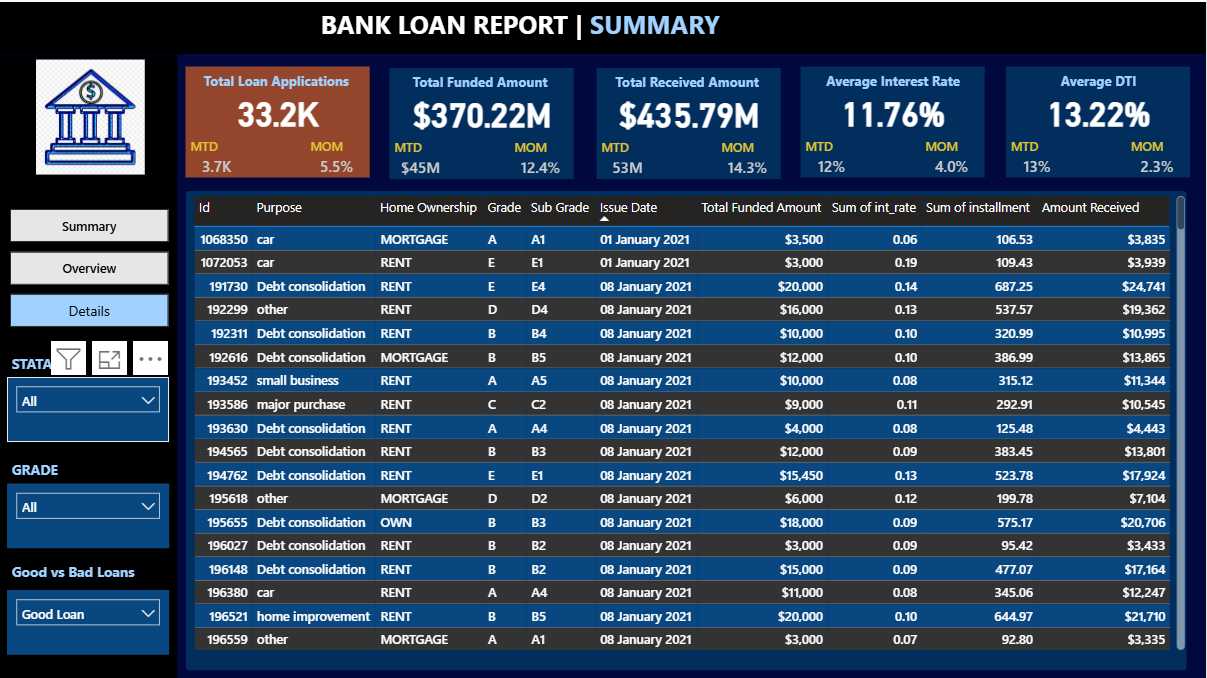

What the dashboard file says about the page in this screenshot:
{"tool":"powerbi","page":{"name":"Details","canvas":[1280,720],"ordinal":2},"visuals":[{"type":"shape","box":[0,55.7,190,664.9],"z":0},{"type":"shape","box":[0,0,1280.4,55],"z":1000},{"type":"textbox","box":[337.2,0,470.8,55.7],"z":2000},{"type":"shape","box":[851.4,68.3,195.6,117.7],"z":3000,"group":"g4"},{"type":"shape","box":[1068.3,68.3,195.6,117.7],"z":3000,"group":"g6"},{"type":"group","id":"g1","title":"Group 1","box":[198.2,68.6,195.6,117.7],"z":3000},{"type":"shape","box":[198.2,68.6,195.6,117.7],"z":3000,"group":"g5"},{"type":"shape","box":[415.8,70,195.6,117.7],"z":3000,"group":"g2"},{"type":"shape","box":[634.4,70,195.6,117.7],"z":3000,"group":"g3"},{"type":"card","fields":{"Values":["Bank_Loan_Data.Avg Interest Rate"]},"box":[851.4,87.4,195.6,55.7],"z":4000,"group":"g4"},{"type":"card","fields":{"Values":["Bank_Loan_Data.Avg DTI"]},"box":[1068.3,87.4,195.6,55.7],"z":4000,"group":"g6"},{"type":"card","fields":{"Values":["Bank_Loan_Data.Total Loan Applications"]},"box":[198.2,87.7,195.6,55.7],"z":4000,"group":"g5"},{"type":"card","fields":{"Values":["Bank_Loan_Data.Total Funded Amount"]},"box":[415.8,89.1,195.6,55.7],"z":4000,"group":"g2"},{"type":"card","fields":{"Values":["Bank_Loan_Data.Total Amount Received"]},"box":[634.4,89.1,195.6,55.7],"z":4000,"group":"g3"},{"type":"shape","box":[198.3,200,1061.7,508.3],"z":4000},{"type":"textbox","box":[851.4,68.3,192.5,38.2],"z":5000,"group":"g4"},{"type":"textbox","box":[1068.3,68.3,192.5,38.2],"z":5000,"group":"g6"},{"type":"textbox","box":[198.2,68.6,192.5,38.2],"z":5000,"group":"g5"},{"type":"group","id":"g2","title":"Group 2","box":[415.8,70,196.7,118.3],"z":5000},{"type":"textbox","box":[415.8,70,192.5,38.2],"z":5000,"group":"g2"},{"type":"textbox","box":[634.4,70,192.5,38.2],"z":5000,"group":"g3"},{"type":"group","id":"g3","title":"Group 2","box":[634.4,70,195,116.7],"z":6000},{"type":"card","title":"MTD","fields":{"Values":["Bank_Loan_Data.MTD Avg_Interest Rate"]},"box":[851.4,143.1,65.2,42.9],"z":6000,"group":"g4"},{"type":"card","title":"MTD","fields":{"Values":["Bank_Loan_Data.MTD avg dti"]},"box":[1068.3,143.1,65.2,42.9],"z":6000,"group":"g6"},{"type":"card","title":"MTD","fields":{"Values":["Bank_Loan_Data.MTD Loan Applications"]},"box":[198.2,143.4,65.2,42.9],"z":6000,"group":"g5"},{"type":"card","title":"MTD","fields":{"Values":["Bank_Loan_Data.MTD FUNDED AMOUNT"]},"box":[415.8,144.8,65.2,42.9],"z":6000,"group":"g2"},{"type":"card","title":"MTD","fields":{"Values":["Bank_Loan_Data.MTD RECIEVED TOTAL AMOUNT"]},"box":[634.4,144.8,65.2,42.9],"z":6000,"group":"g3"},{"type":"group","id":"g4","title":"Group 2","box":[851.4,68.3,195,116.7],"z":7000},{"type":"card","title":"MOM","fields":{"Values":["Bank_Loan_Data.MOM Avg Interest Rate"]},"box":[978.6,143.1,65.2,42.9],"z":7000,"group":"g4"},{"type":"card","title":"MOM","fields":{"Values":["Bank_Loan_Data.MOM Avg dti"]},"box":[1195.5,143.1,65.2,42.9],"z":7000,"group":"g6"},{"type":"card","title":"MOM","fields":{"Values":["Bank_Loan_Data.MOM LOAN APPLICATIONS"]},"box":[325.4,143.4,65.2,42.9],"z":7000,"group":"g5"},{"type":"card","title":"MOM","fields":{"Values":["Bank_Loan_Data.MOM TOTAL  FUNDED AMOUNT"]},"box":[543,144.8,65.2,42.9],"z":7000,"group":"g2"},{"type":"card","title":"MOM","fields":{"Values":["Bank_Loan_Data.MOM TOTAL RECIVED AMOUNT"]},"box":[761.6,144.8,65.2,42.9],"z":7000,"group":"g3"},{"type":"group","id":"g5","title":"Group 2","box":[198.2,68.6,195.6,117.7],"z":7002,"group":"g1"},{"type":"group","id":"g6","title":"Group 2","box":[1068.3,68.3,195,116.7],"z":8000},{"type":"textbox","box":[9.5,367.4,111.3,30.2],"z":9000},{"type":"slicer","fields":{"Values":["Bank_Loan_Data.grade"]},"box":[9.5,510.6,171.8,68.4],"z":10000},{"type":"textbox","box":[9.5,480.4,111.3,30.2],"z":11000},{"type":"slicer","fields":{"Values":["Bank_Loan_Data.Good vs Bad Loans"]},"box":[9.5,623.5,171.8,68.4],"z":12000},{"type":"textbox","box":[10,588.3,171.7,35],"z":13000},{"type":"slicer","fields":{"Values":["Bank_Loan_Data.address_state"]},"box":[9.5,397.7,171.8,68.4],"z":16000},{"type":"tableEx","fields":{"Values":["Bank_Loan_Data.id","Bank_Loan_Data.purpose","Bank_Loan_Data.home_ownership","Bank_Loan_Data.grade","Bank_Loan_Data.sub_grade","Bank_Loan_Data.issue_date","Bank_Loan_Data.Total Funded Amount","Sum(Bank_Loan_Data.int_rate)","Sum(Bank_Loan_Data.installment)","Bank_Loan_Data.Total Amount Received"]},"box":[201.7,200,1061.7,491.7],"z":17000},{"type":"pageNavigator","box":[12.7,219.5,168.6,127.2],"z":17001},{"type":"image","box":[14.3,55.7,167,132],"z":17002}]}

Visuals, with their boxes in screenshot pixels (x1, y1, x2, y2), scaled from the page's 1280x720 canvas onto the 1207x678 screenshot:
shape: x1=0 y1=52 x2=179 y2=677
shape: x1=0 y1=0 x2=1206 y2=52
textbox: x1=318 y1=0 x2=762 y2=52
shape: x1=803 y1=64 x2=987 y2=175
shape: x1=1007 y1=64 x2=1192 y2=175
"Group 1" group: x1=187 y1=65 x2=371 y2=175
shape: x1=187 y1=65 x2=371 y2=175
shape: x1=392 y1=66 x2=577 y2=177
shape: x1=598 y1=66 x2=783 y2=177
card - Bank_Loan_Data.Avg Interest Rate: x1=803 y1=82 x2=987 y2=135
card - Bank_Loan_Data.Avg DTI: x1=1007 y1=82 x2=1192 y2=135
card - Bank_Loan_Data.Total Loan Applications: x1=187 y1=83 x2=371 y2=135
card - Bank_Loan_Data.Total Funded Amount: x1=392 y1=84 x2=577 y2=136
card - Bank_Loan_Data.Total Amount Received: x1=598 y1=84 x2=783 y2=136
shape: x1=187 y1=188 x2=1188 y2=667
textbox: x1=803 y1=64 x2=984 y2=100
textbox: x1=1007 y1=64 x2=1189 y2=100
textbox: x1=187 y1=65 x2=368 y2=101
"Group 2" group: x1=392 y1=66 x2=578 y2=177
textbox: x1=392 y1=66 x2=574 y2=102
textbox: x1=598 y1=66 x2=780 y2=102
"Group 2" group: x1=598 y1=66 x2=782 y2=176
"MTD" card: x1=803 y1=135 x2=864 y2=175
"MTD" card: x1=1007 y1=135 x2=1069 y2=175
"MTD" card: x1=187 y1=135 x2=248 y2=175
"MTD" card: x1=392 y1=136 x2=454 y2=177
"MTD" card: x1=598 y1=136 x2=660 y2=177
"Group 2" group: x1=803 y1=64 x2=987 y2=174
"MOM" card: x1=923 y1=135 x2=984 y2=175
"MOM" card: x1=1127 y1=135 x2=1189 y2=175
"MOM" card: x1=307 y1=135 x2=368 y2=175
"MOM" card: x1=512 y1=136 x2=574 y2=177
"MOM" card: x1=718 y1=136 x2=780 y2=177
"Group 2" group: x1=187 y1=65 x2=371 y2=175
"Group 2" group: x1=1007 y1=64 x2=1191 y2=174
textbox: x1=9 y1=346 x2=114 y2=374
slicer - Bank_Loan_Data.grade: x1=9 y1=481 x2=171 y2=545
textbox: x1=9 y1=452 x2=114 y2=481
slicer - Bank_Loan_Data.Good vs Bad Loans: x1=9 y1=587 x2=171 y2=652
textbox: x1=9 y1=554 x2=171 y2=587
slicer - Bank_Loan_Data.address_state: x1=9 y1=375 x2=171 y2=439
tableEx - Bank_Loan_Data.id x Bank_Loan_Data.purpose: x1=190 y1=188 x2=1191 y2=651
pageNavigator: x1=12 y1=207 x2=171 y2=326
image: x1=13 y1=52 x2=171 y2=177
